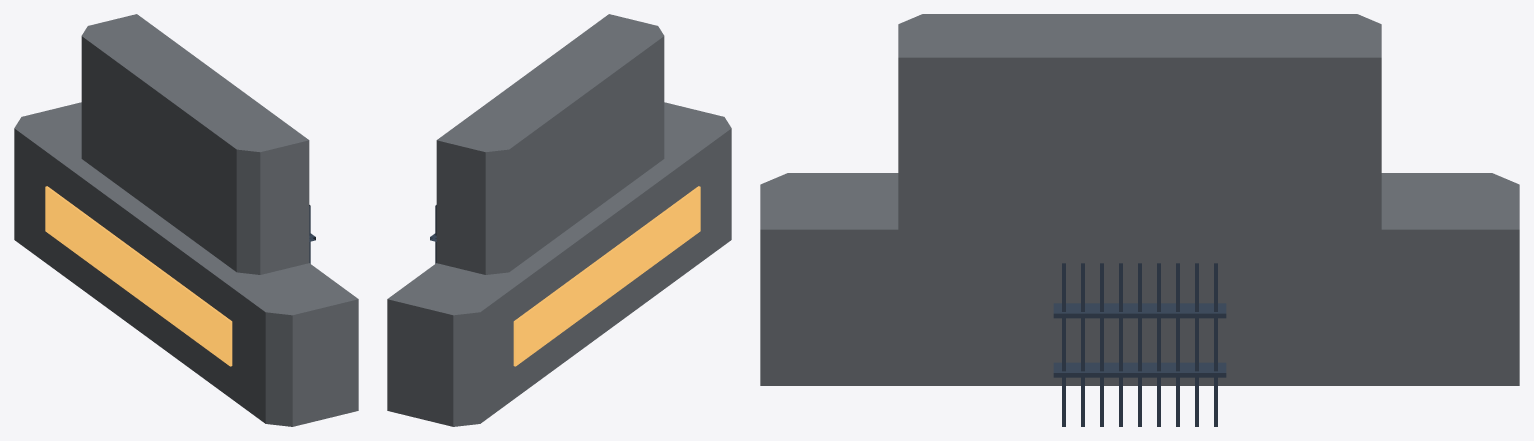
File: IC_Portal.glb
3 renders of one model, left to right at view 1: azimuth 30°, elevation 25°; view 2: azimuth 150°, elevation 25°; view 3: azimuth 270°, elevation 25°, orthographic. The views are drawn at different scales.
Parts seen in each view (by area): view 1: IC_Portal__keystone, IC_Portal__crest_light; view 2: IC_Portal__keystone, IC_Portal__crest_light; view 3: IC_Portal__keystone, IC_Portal__grille.
Boxes of the visible parts, <box> form: IC_Portal__keystone: <box>14,14,358,426</box>; IC_Portal__crest_light: <box>45,186,232,366</box>; IC_Portal__keystone: <box>387,14,731,426</box>; IC_Portal__crest_light: <box>513,186,700,366</box>; IC_Portal__keystone: <box>760,14,1519,385</box>; IC_Portal__grille: <box>1053,263,1226,426</box>.
Size of the model in its own units: 1.38 by 2.1 by 4.4.
